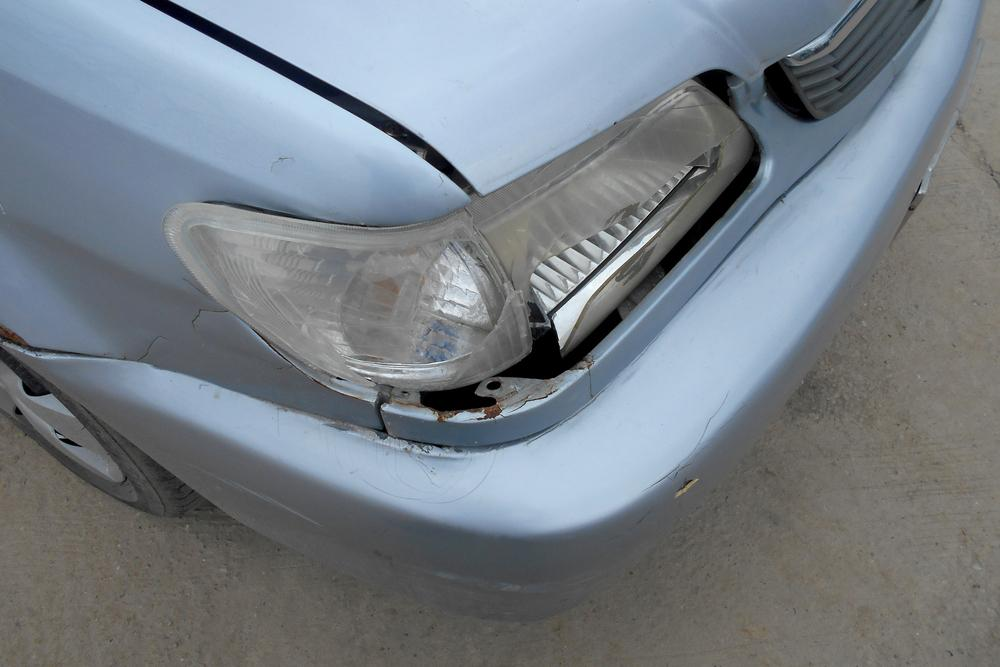lamp broken: (165, 78, 757, 401)
